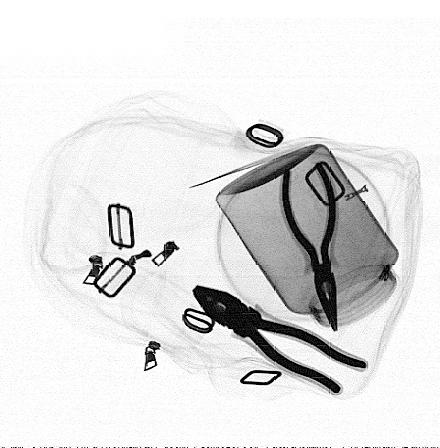Pliers: (190, 283, 367, 398), (281, 160, 339, 334)
